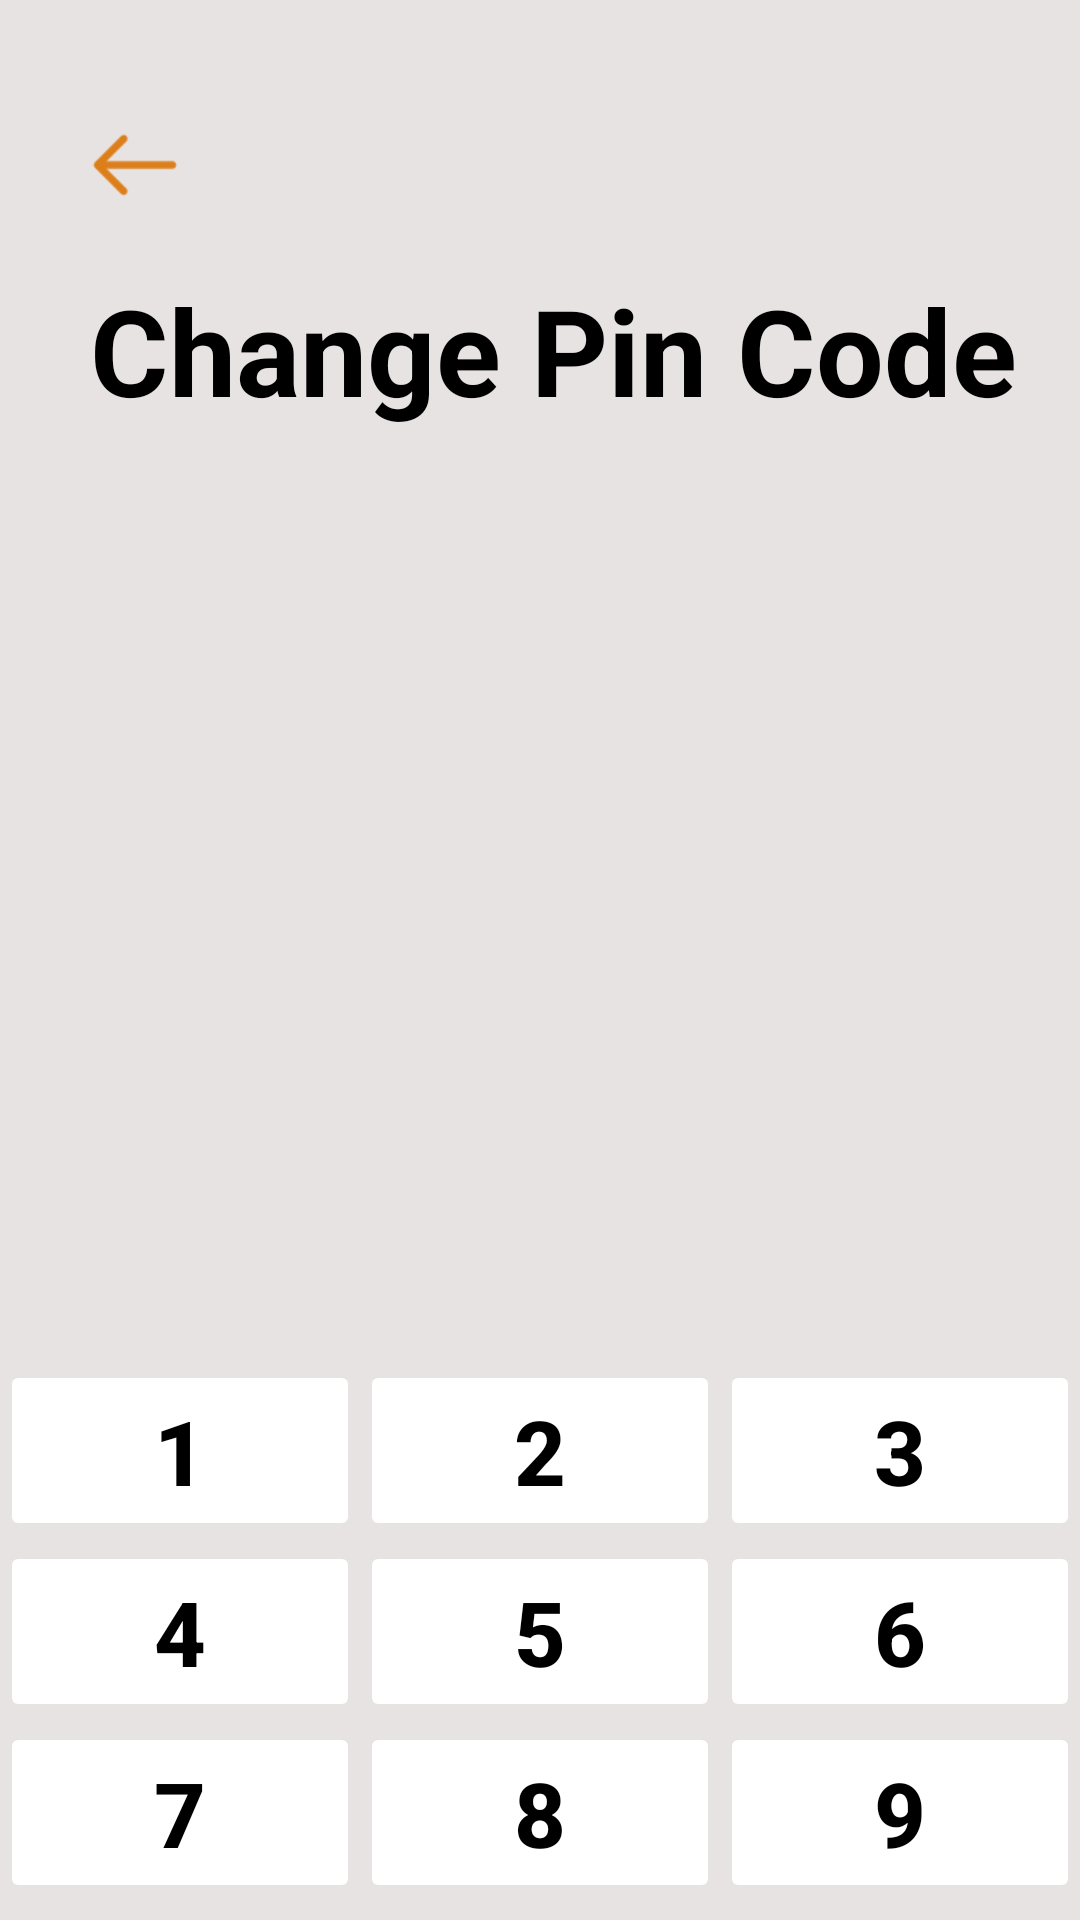

Where icons sit on this 1080*1920 app screen, as bbox=(x1, y1, x2, y2):
back: bbox=(93, 134, 177, 196)
